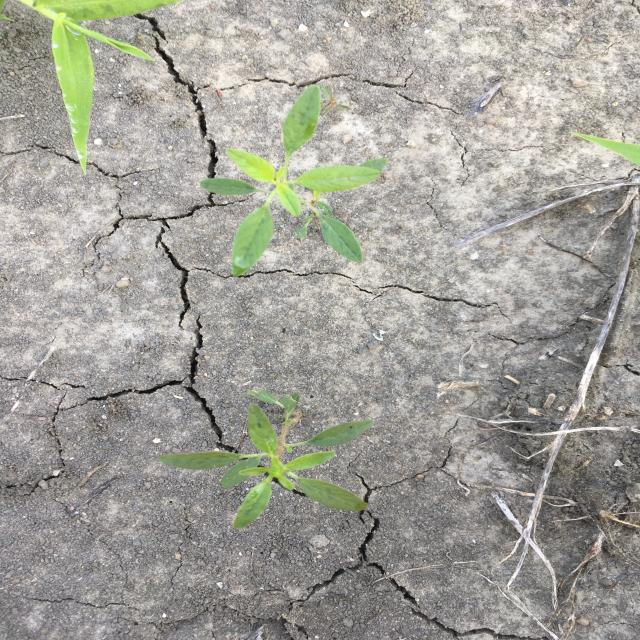Waterhemp: (196, 81, 389, 279), (157, 388, 377, 532)
